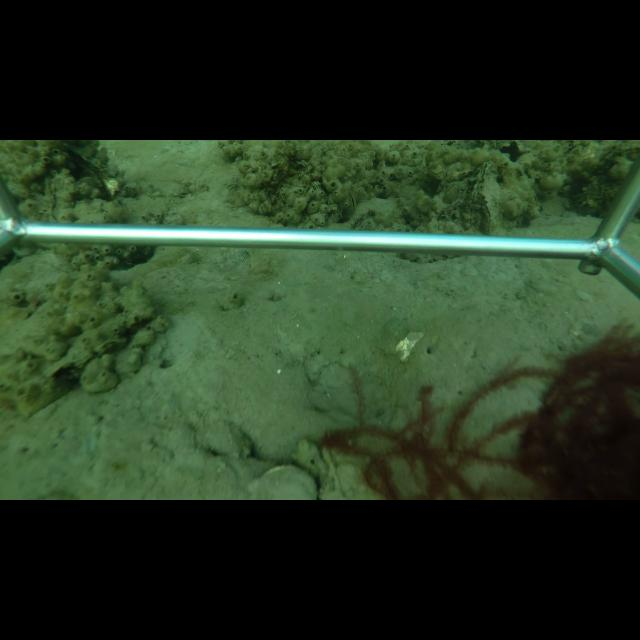Oyster-Closed: (60, 147, 116, 202), (248, 463, 322, 500), (465, 162, 495, 231), (477, 186, 505, 234)
